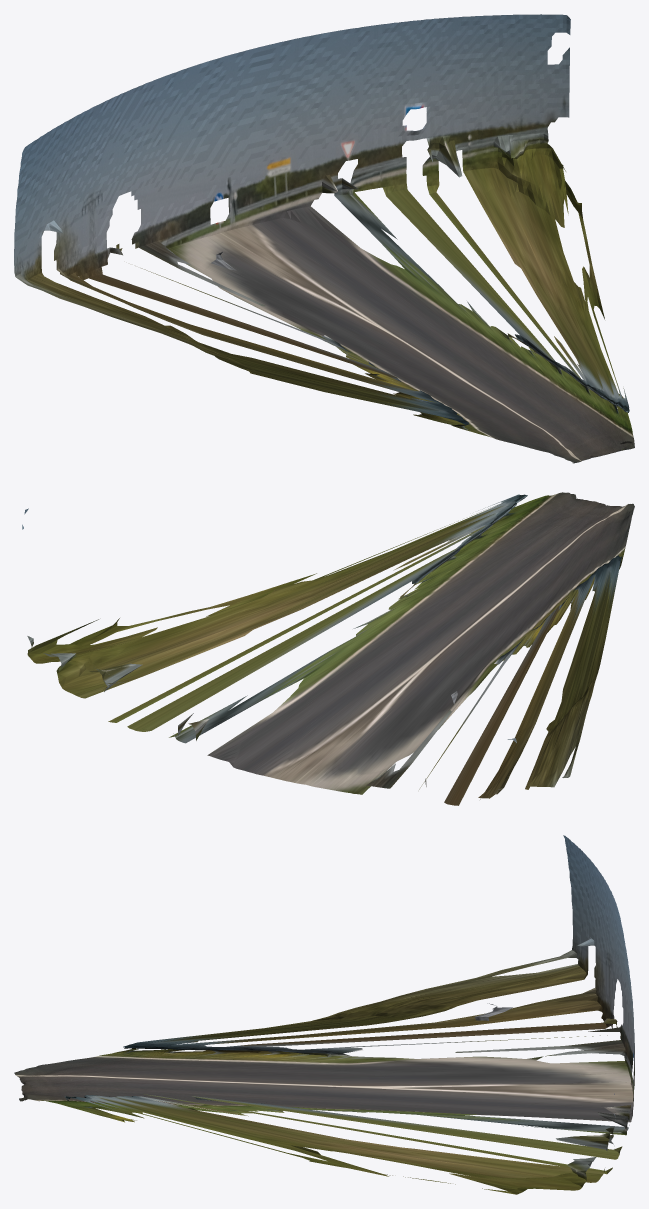
The picture shows the model from 3 angles, top to bottom: view 1: azimuth 30°, elevation 25°; view 2: azimuth 150°, elevation 25°; view 3: azimuth 270°, elevation 25°; orthographic projection. The views are drawn at different scales.
Parts seen in each view (by area): view 1: defaultobject; view 2: defaultobject; view 3: defaultobject.
Part boxes in pixels (x1,y1,x2,y2): defaultobject: (14, 14, 634, 463); defaultobject: (22, 492, 634, 805); defaultobject: (14, 835, 634, 1194).
Size of the model in its own units: 41.14 by 12.95 by 44.82.
1 material, 1 textured.
